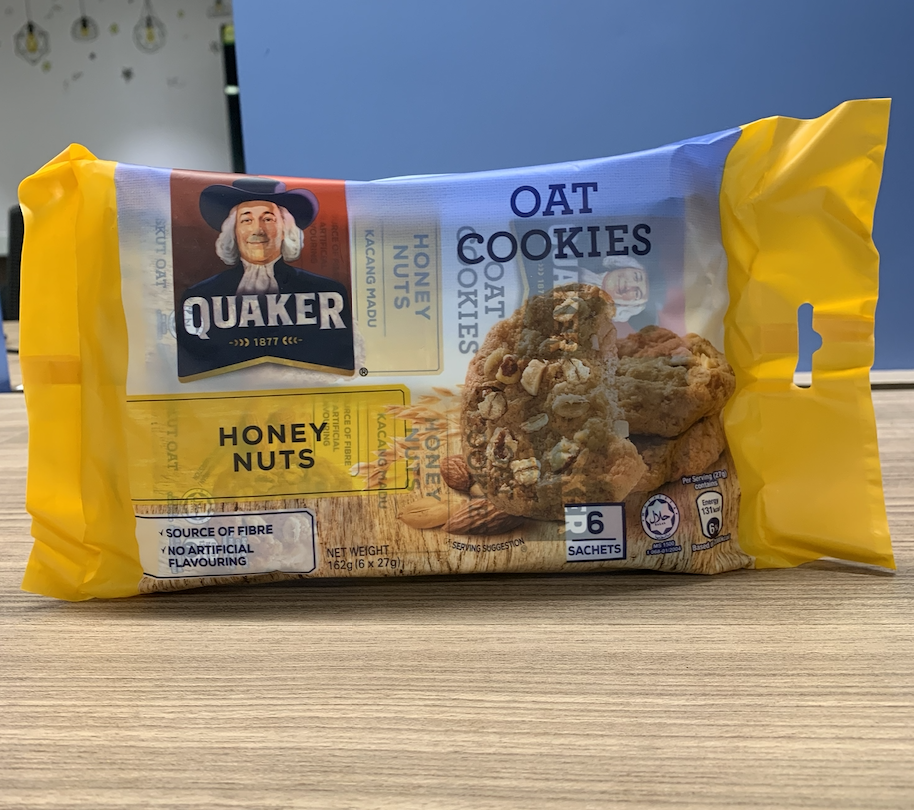cookies_150g: (76, 176, 843, 572)
